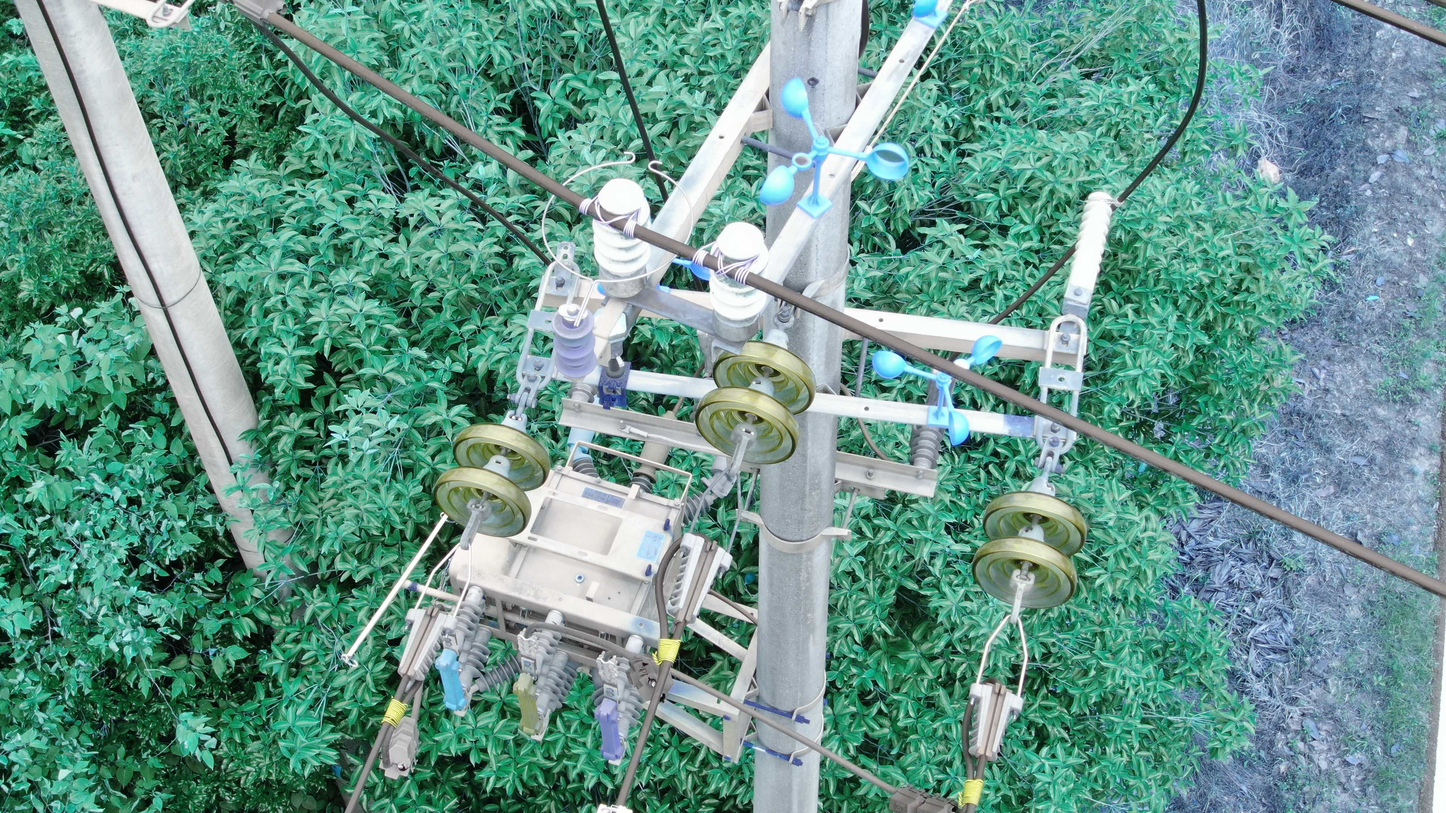severe_soiling_no_discharge_whole: (704, 216, 776, 341), (589, 178, 654, 298)
